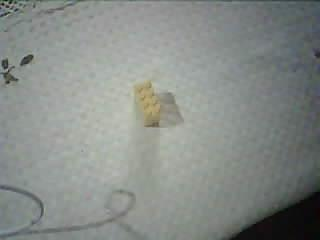lego: (131, 80, 162, 126)
